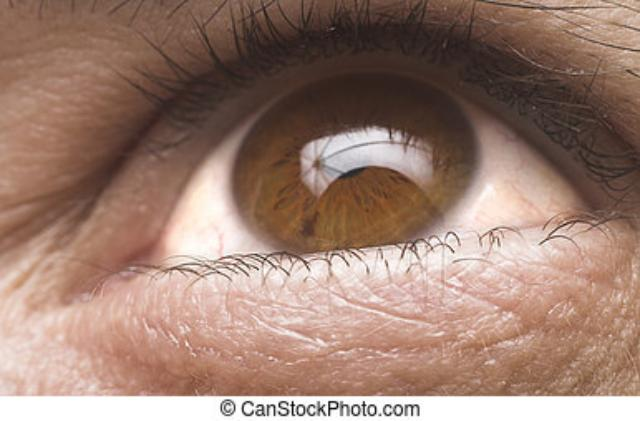eye: (236, 68, 484, 258)
